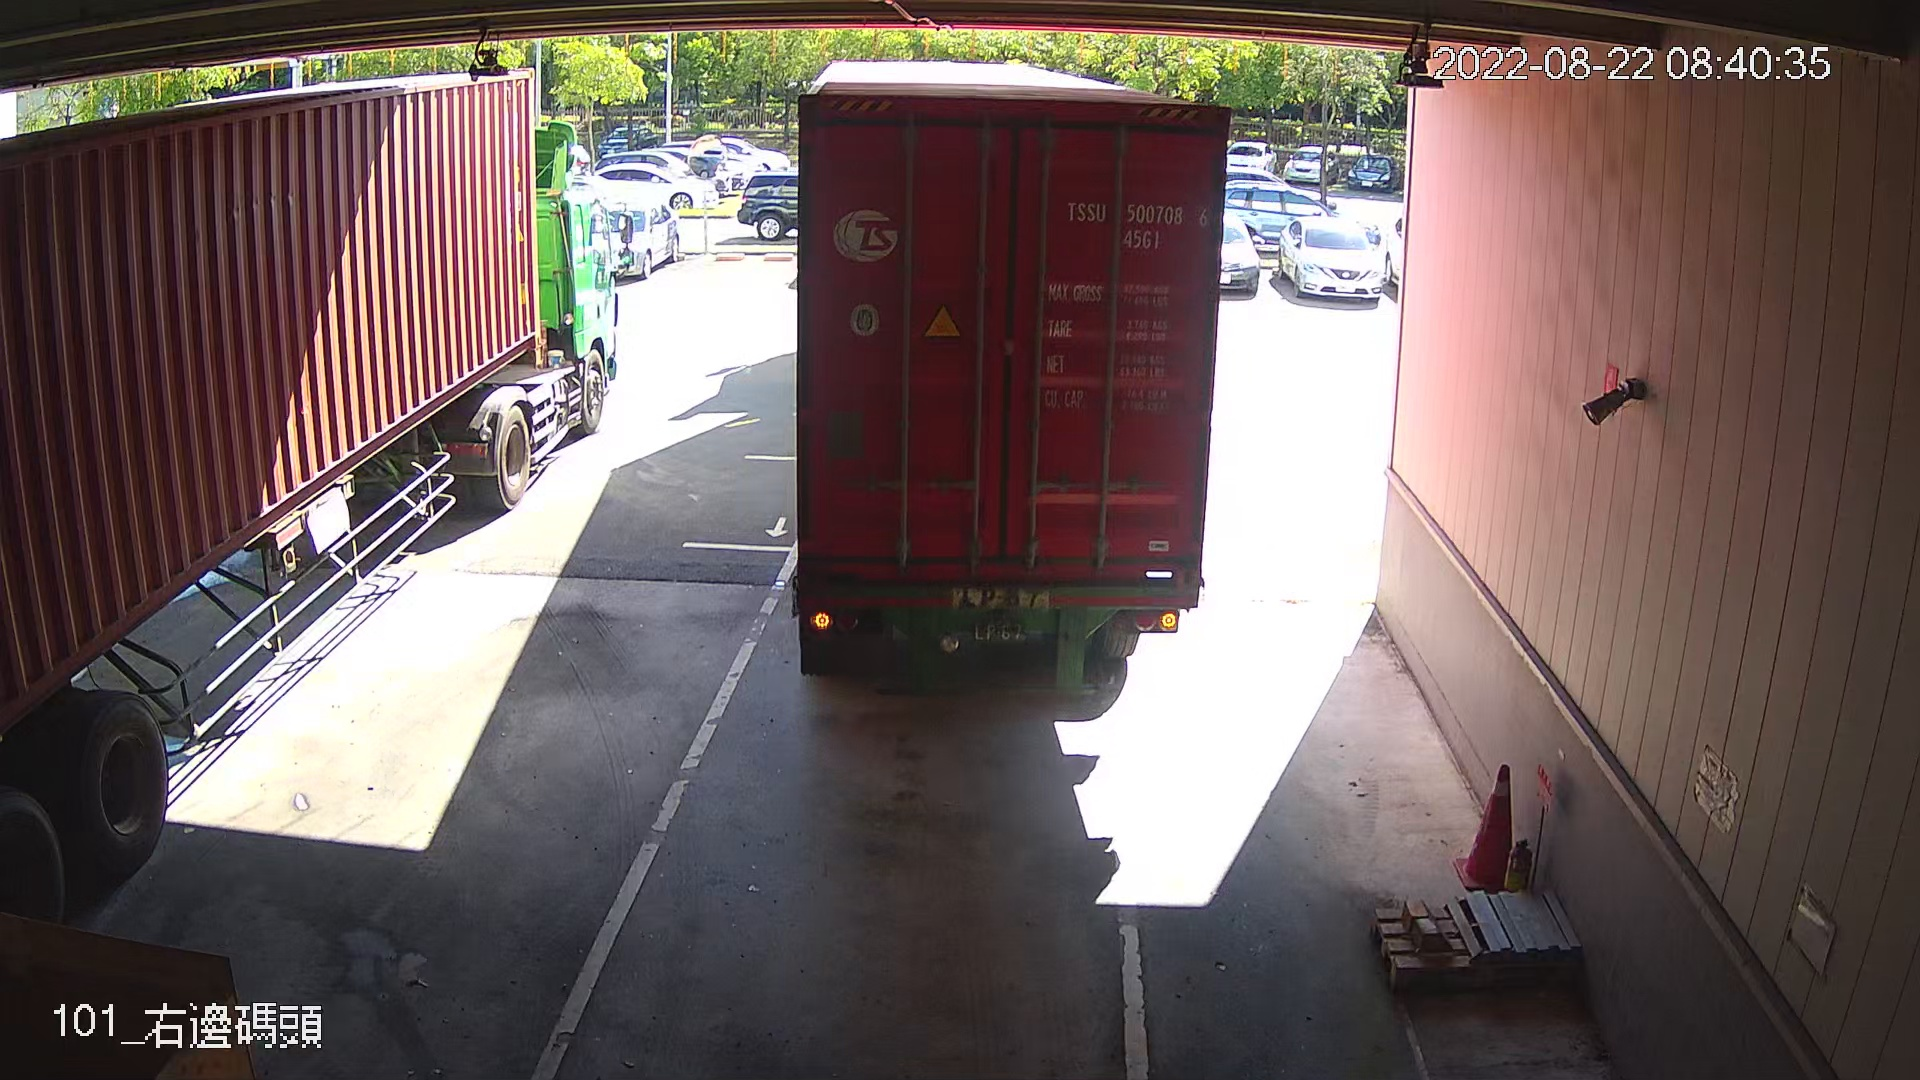container: (1058, 189, 1215, 255)
